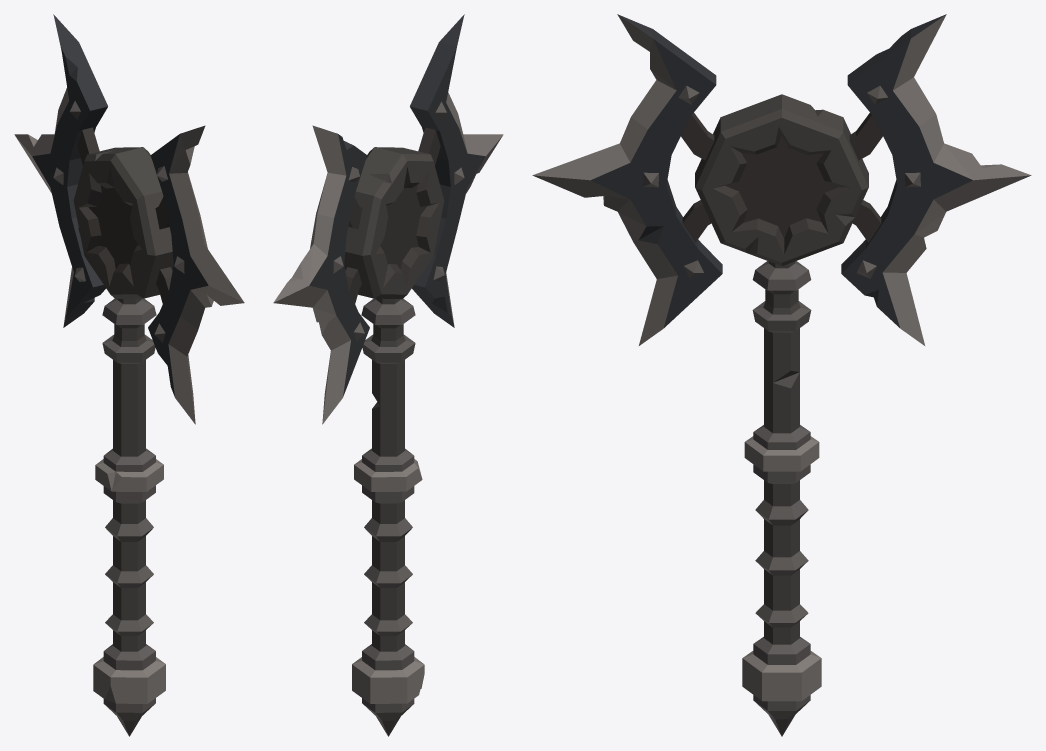
File: titan_axe.glb
3 renders of one model, left to right at view 1: azimuth 30°, elevation 25°; view 2: azimuth 150°, elevation 25°; view 3: azimuth 270°, elevation 25°, orthographic. The views are drawn at different scales.
Visible parts, largest first — view 1: SM_Wep_Axe_Large_05; view 2: SM_Wep_Axe_Large_05; view 3: SM_Wep_Axe_Large_05.
Boxes of the visible parts, x1,y1,x2,y2 form: SM_Wep_Axe_Large_05: (14,14,244,736); SM_Wep_Axe_Large_05: (273,14,503,736); SM_Wep_Axe_Large_05: (532,14,1031,736).
Size of the model in its own units: 0.2242 by 2.6 by 1.63.
1 material, 1 textured.
